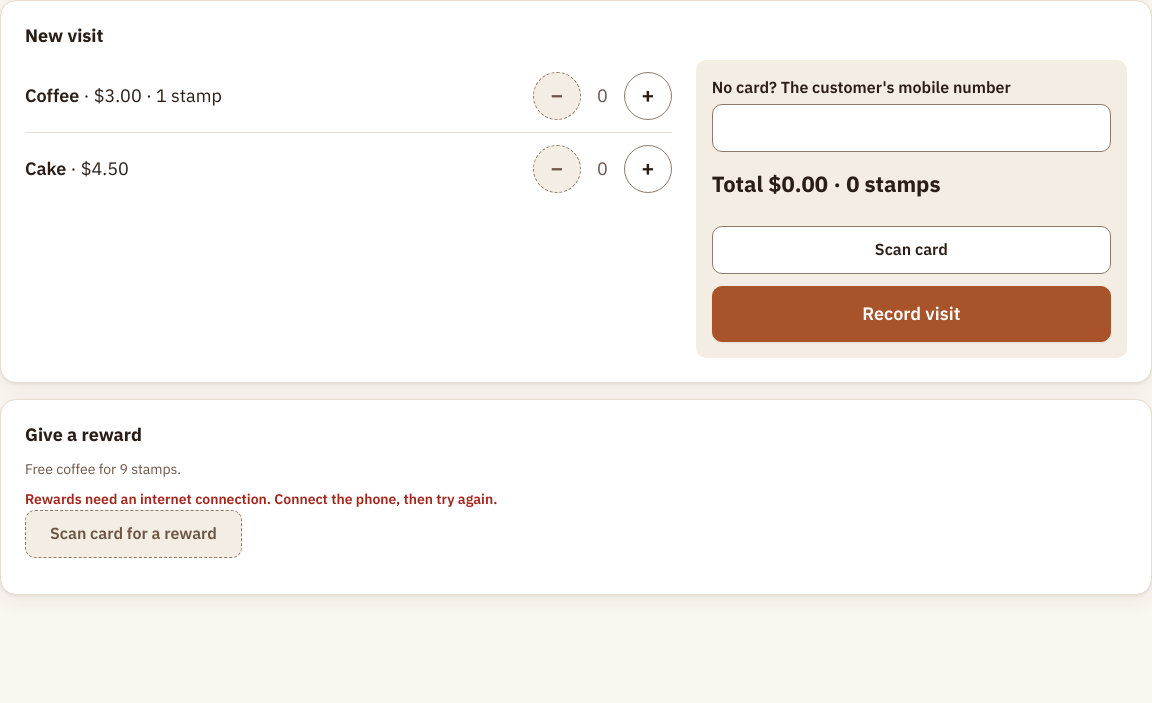
Test: the counter's speed and recovery (phase 2) › shows a saved visit in the success style and buzzes, then undoes it while unsent, putting the order back (K2, K4)
This screenshot has width=1152, height=703.
Click the button named "One more Coffee".
click(648, 96)  # box [624, 72, 672, 120]
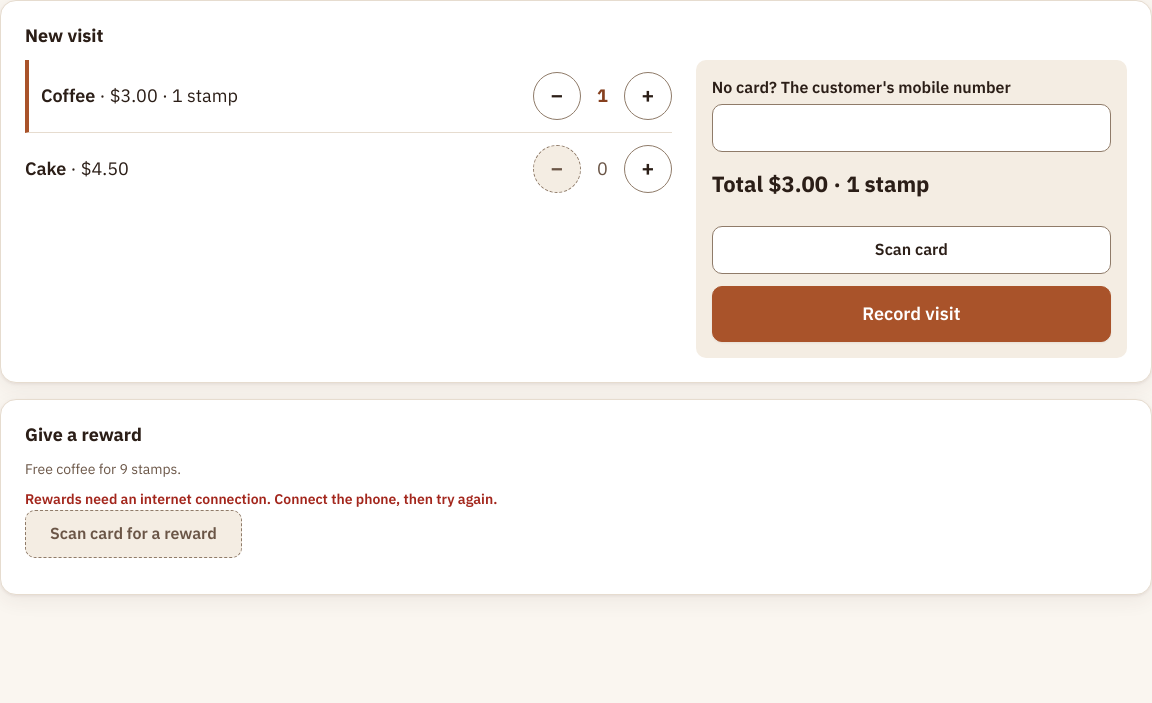
Type "70 123 456" into the field labelled "No card? The customer's mobile number".
click(911, 128); type("70 123 456")  # box [712, 104, 1111, 152]
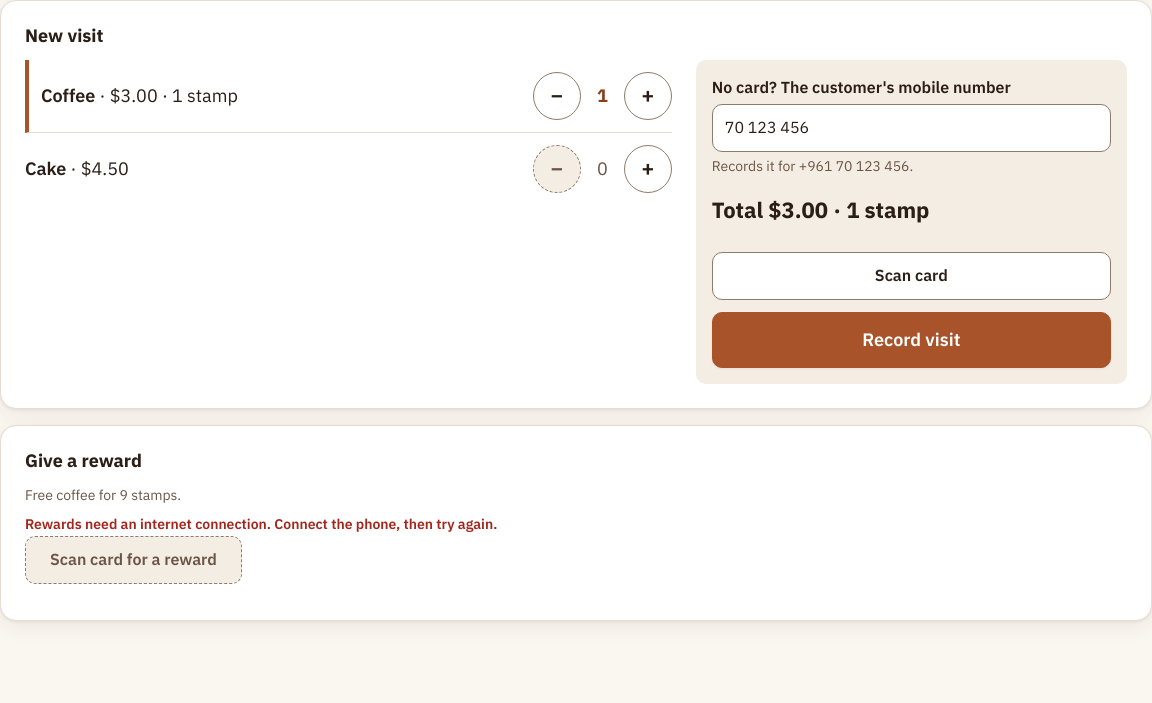
Click the button "Record visit".
click(911, 340)  # box [712, 312, 1111, 368]
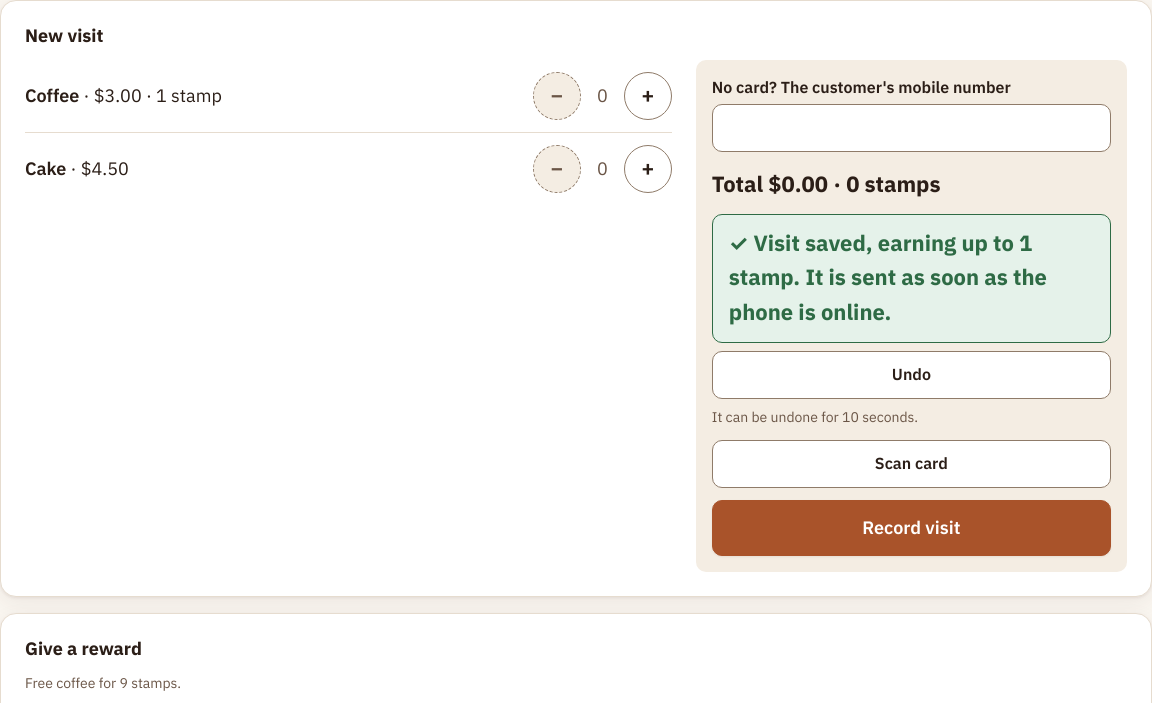
Click the button with aria-label "Undo the visit".
click(911, 375)  # box [712, 351, 1111, 399]
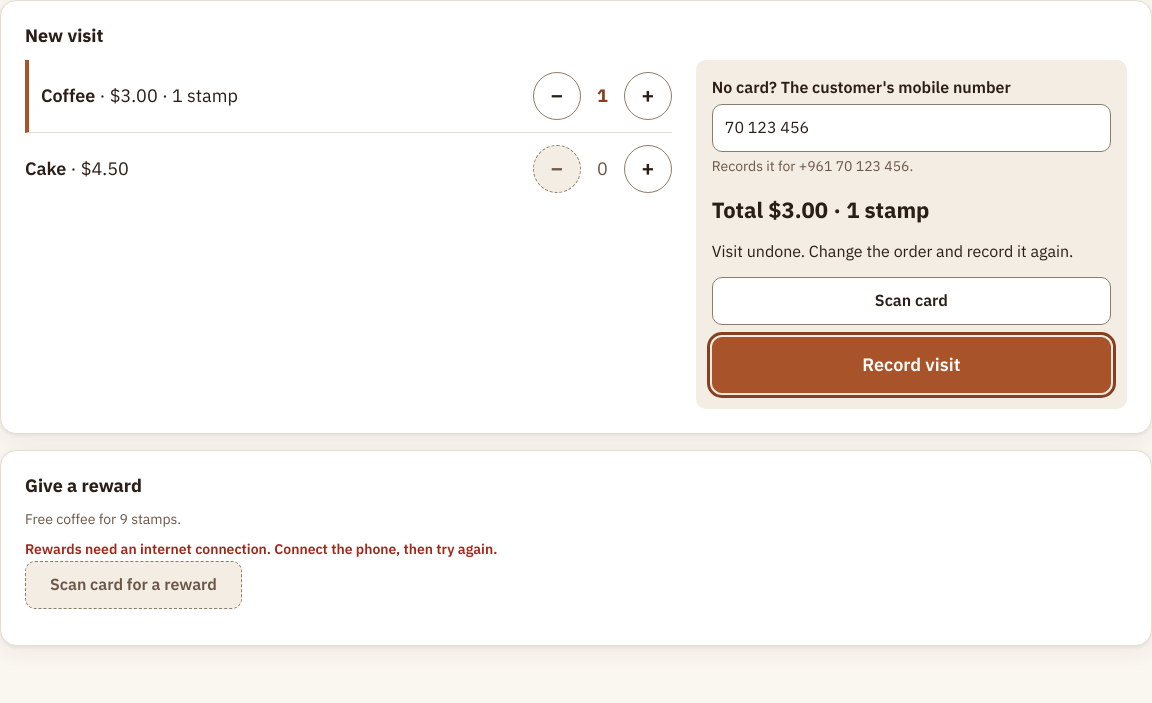
Now the text "It can be undone for 10 seconds." is gone
Now the text "Total $3.00 · 1 stamp" is shown, box [712, 194, 930, 227]
